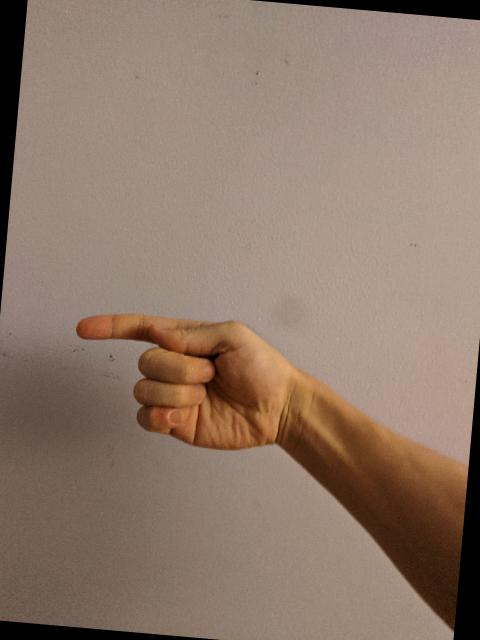G: (63, 302, 294, 461)
